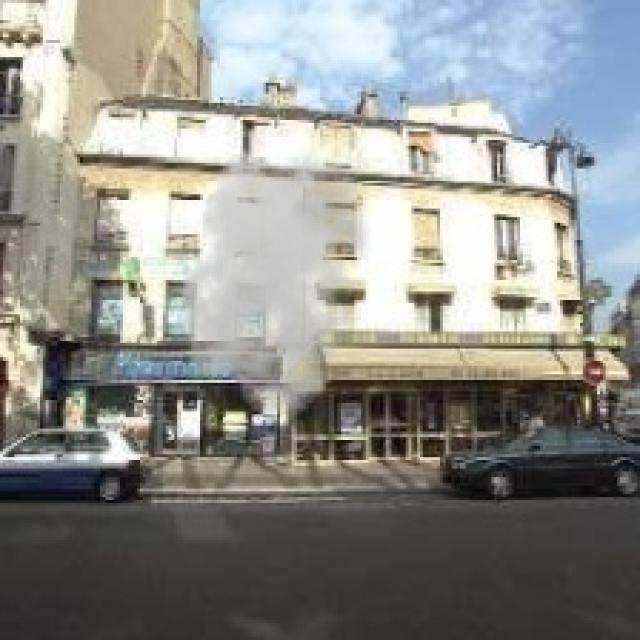smoke: (172, 143, 374, 417)
